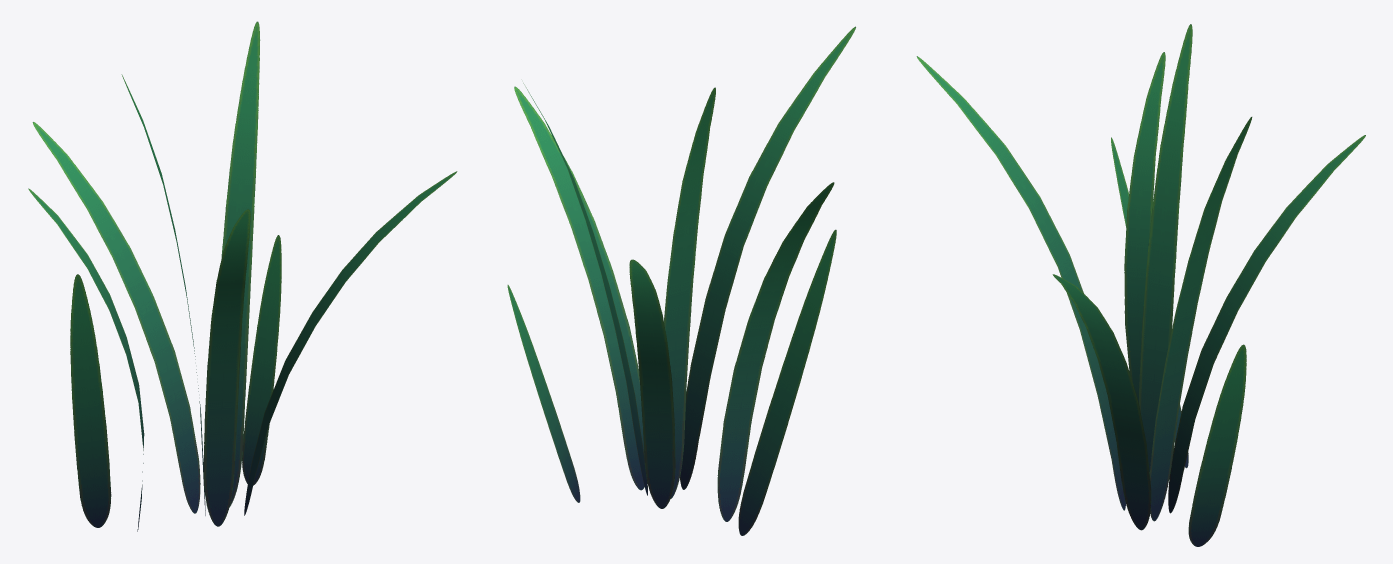
The model's file is grass_clump_a.glb.
The picture shows the model from 3 angles, left to right: view 1: azimuth 30°, elevation 25°; view 2: azimuth 150°, elevation 25°; view 3: azimuth 270°, elevation 25°; orthographic projection. The views are drawn at different scales.
Parts seen in each view (by area): view 1: Grass:Grass_low1_Grass:Grass_MAT_0, Grass:Grass_low4_Grass:Grass_MAT_0, Grass:Grass_Master4_Grass:Grass_MAT_0, Grass:Grass_low5_Grass:Grass_MAT_0, Grass:Grass_Master5_Grass:Grass_MAT_0, Grass:Grass_low2_Grass:Grass_MAT_0, Grass:Grass_low14_Grass:Grass_MAT_0, Grass:Grass_low3_Grass:Grass_MAT_0; view 2: Grass:Grass_low1_Grass:Grass_MAT_0, Grass:Grass_low14_Grass:Grass_MAT_0, Grass:Grass_low2_Grass:Grass_MAT_0, Grass:Grass_low3_Grass:Grass_MAT_0, Grass:Grass_low4_Grass:Grass_MAT_0, Grass:Grass_Master4_Grass:Grass_MAT_0, Grass:Grass_Master5_Grass:Grass_MAT_0, Grass:Grass_low5_Grass:Grass_MAT_0; view 3: Grass:Grass_low3_Grass:Grass_MAT_0, Grass:Grass_low5_Grass:Grass_MAT_0, Grass:Grass_low2_Grass:Grass_MAT_0, Grass:Grass_low14_Grass:Grass_MAT_0, Grass:Grass_low4_Grass:Grass_MAT_0, Grass:Grass_low1_Grass:Grass_MAT_0, Grass:Grass_Master5_Grass:Grass_MAT_0, Grass:Grass_Master4_Grass:Grass_MAT_0.
Part boxes in pixels (x1,y1,x2,y2): Grass:Grass_low1_Grass:Grass_MAT_0: [203, 209, 250, 526]; Grass:Grass_low4_Grass:Grass_MAT_0: [32, 122, 200, 513]; Grass:Grass_Master4_Grass:Grass_MAT_0: [70, 274, 111, 527]; Grass:Grass_low5_Grass:Grass_MAT_0: [221, 21, 260, 507]; Grass:Grass_Master5_Grass:Grass_MAT_0: [242, 235, 281, 485]; Grass:Grass_low2_Grass:Grass_MAT_0: [244, 171, 457, 515]; Grass:Grass_low14_Grass:Grass_MAT_0: [28, 188, 144, 531]; Grass:Grass_low3_Grass:Grass_MAT_0: [121, 74, 205, 515]; Grass:Grass_low1_Grass:Grass_MAT_0: [680, 26, 855, 489]; Grass:Grass_low14_Grass:Grass_MAT_0: [717, 182, 834, 521]; Grass:Grass_low2_Grass:Grass_MAT_0: [514, 86, 644, 490]; Grass:Grass_low3_Grass:Grass_MAT_0: [664, 87, 715, 498]; Grass:Grass_low4_Grass:Grass_MAT_0: [629, 259, 675, 508]; Grass:Grass_Master4_Grass:Grass_MAT_0: [738, 229, 836, 535]; Grass:Grass_Master5_Grass:Grass_MAT_0: [507, 285, 580, 502]; Grass:Grass_low5_Grass:Grass_MAT_0: [523, 83, 647, 495]; Grass:Grass_low3_Grass:Grass_MAT_0: [1139, 24, 1192, 471]; Grass:Grass_low5_Grass:Grass_MAT_0: [1149, 117, 1252, 521]; Grass:Grass_low2_Grass:Grass_MAT_0: [1052, 274, 1151, 530]; Grass:Grass_low14_Grass:Grass_MAT_0: [1124, 52, 1165, 402]; Grass:Grass_low4_Grass:Grass_MAT_0: [1168, 135, 1365, 513]; Grass:Grass_low1_Grass:Grass_MAT_0: [916, 56, 1125, 510]; Grass:Grass_Master5_Grass:Grass_MAT_0: [1188, 344, 1246, 546]; Grass:Grass_Master4_Grass:Grass_MAT_0: [1111, 137, 1188, 468].
Size of the model in its own units: 0.5646 by 0.62 by 0.5694.
1 material, 1 textured.
